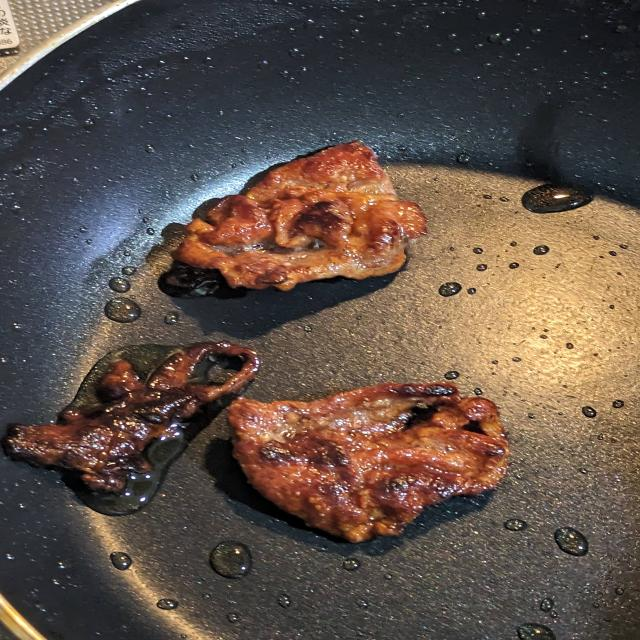overcooked pork: (221, 374, 527, 553), (171, 129, 440, 296), (5, 337, 277, 500)
